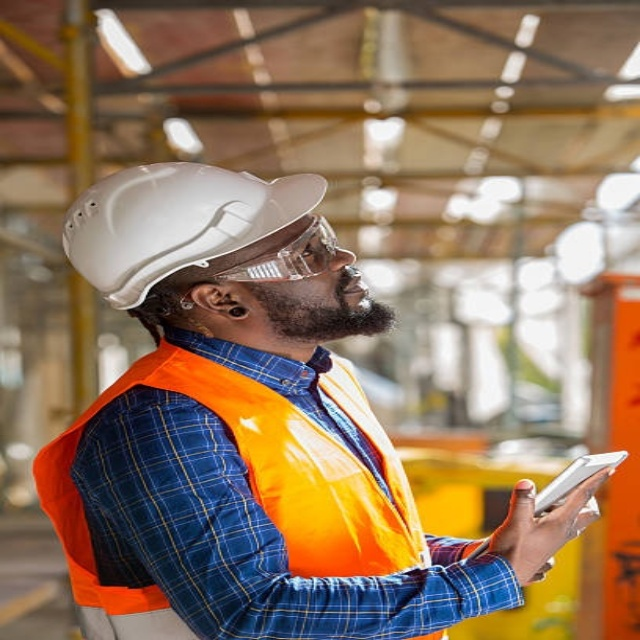Gafas: (189, 214, 342, 285)
Sin_guantes: (486, 466, 614, 583)
Sin_mascara: (333, 269, 398, 329)
